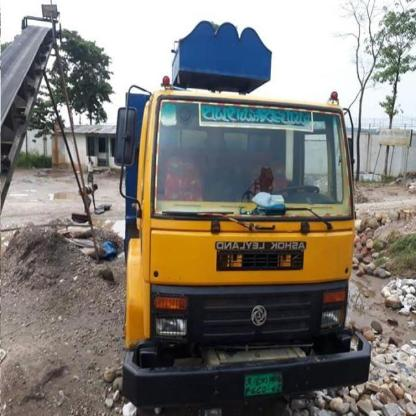truck: (112, 85, 368, 400)
